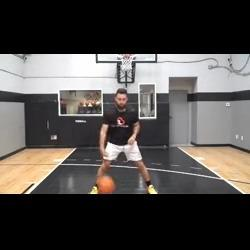BasketBall: (95, 173, 116, 193)
